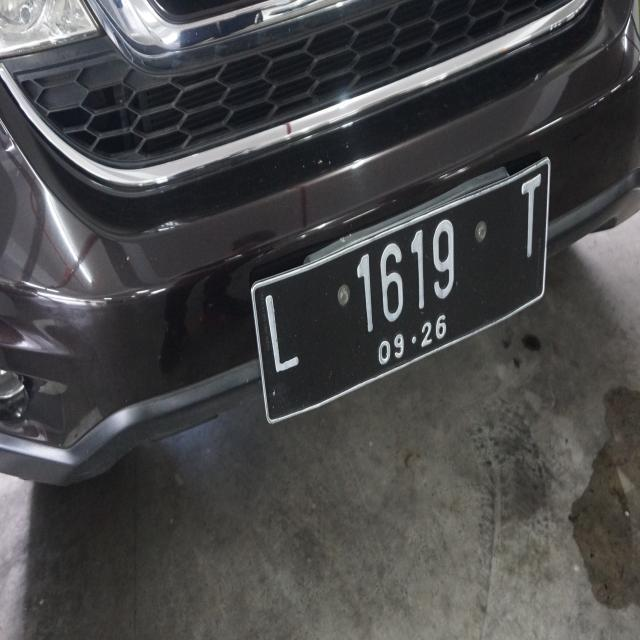1: (346, 258, 379, 346), (402, 225, 432, 319)
6: (374, 244, 406, 324)
9: (424, 221, 459, 301)
L: (256, 287, 306, 395)
T: (508, 174, 546, 274)
